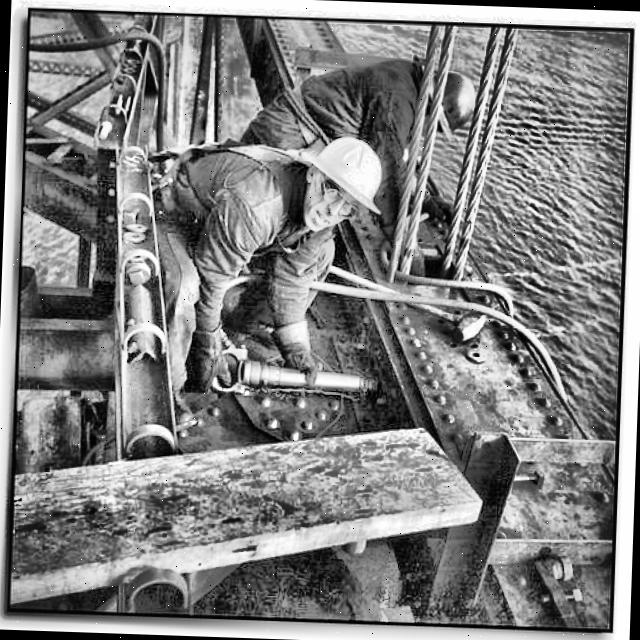helmet: (274, 118, 394, 260), (404, 64, 482, 138)
